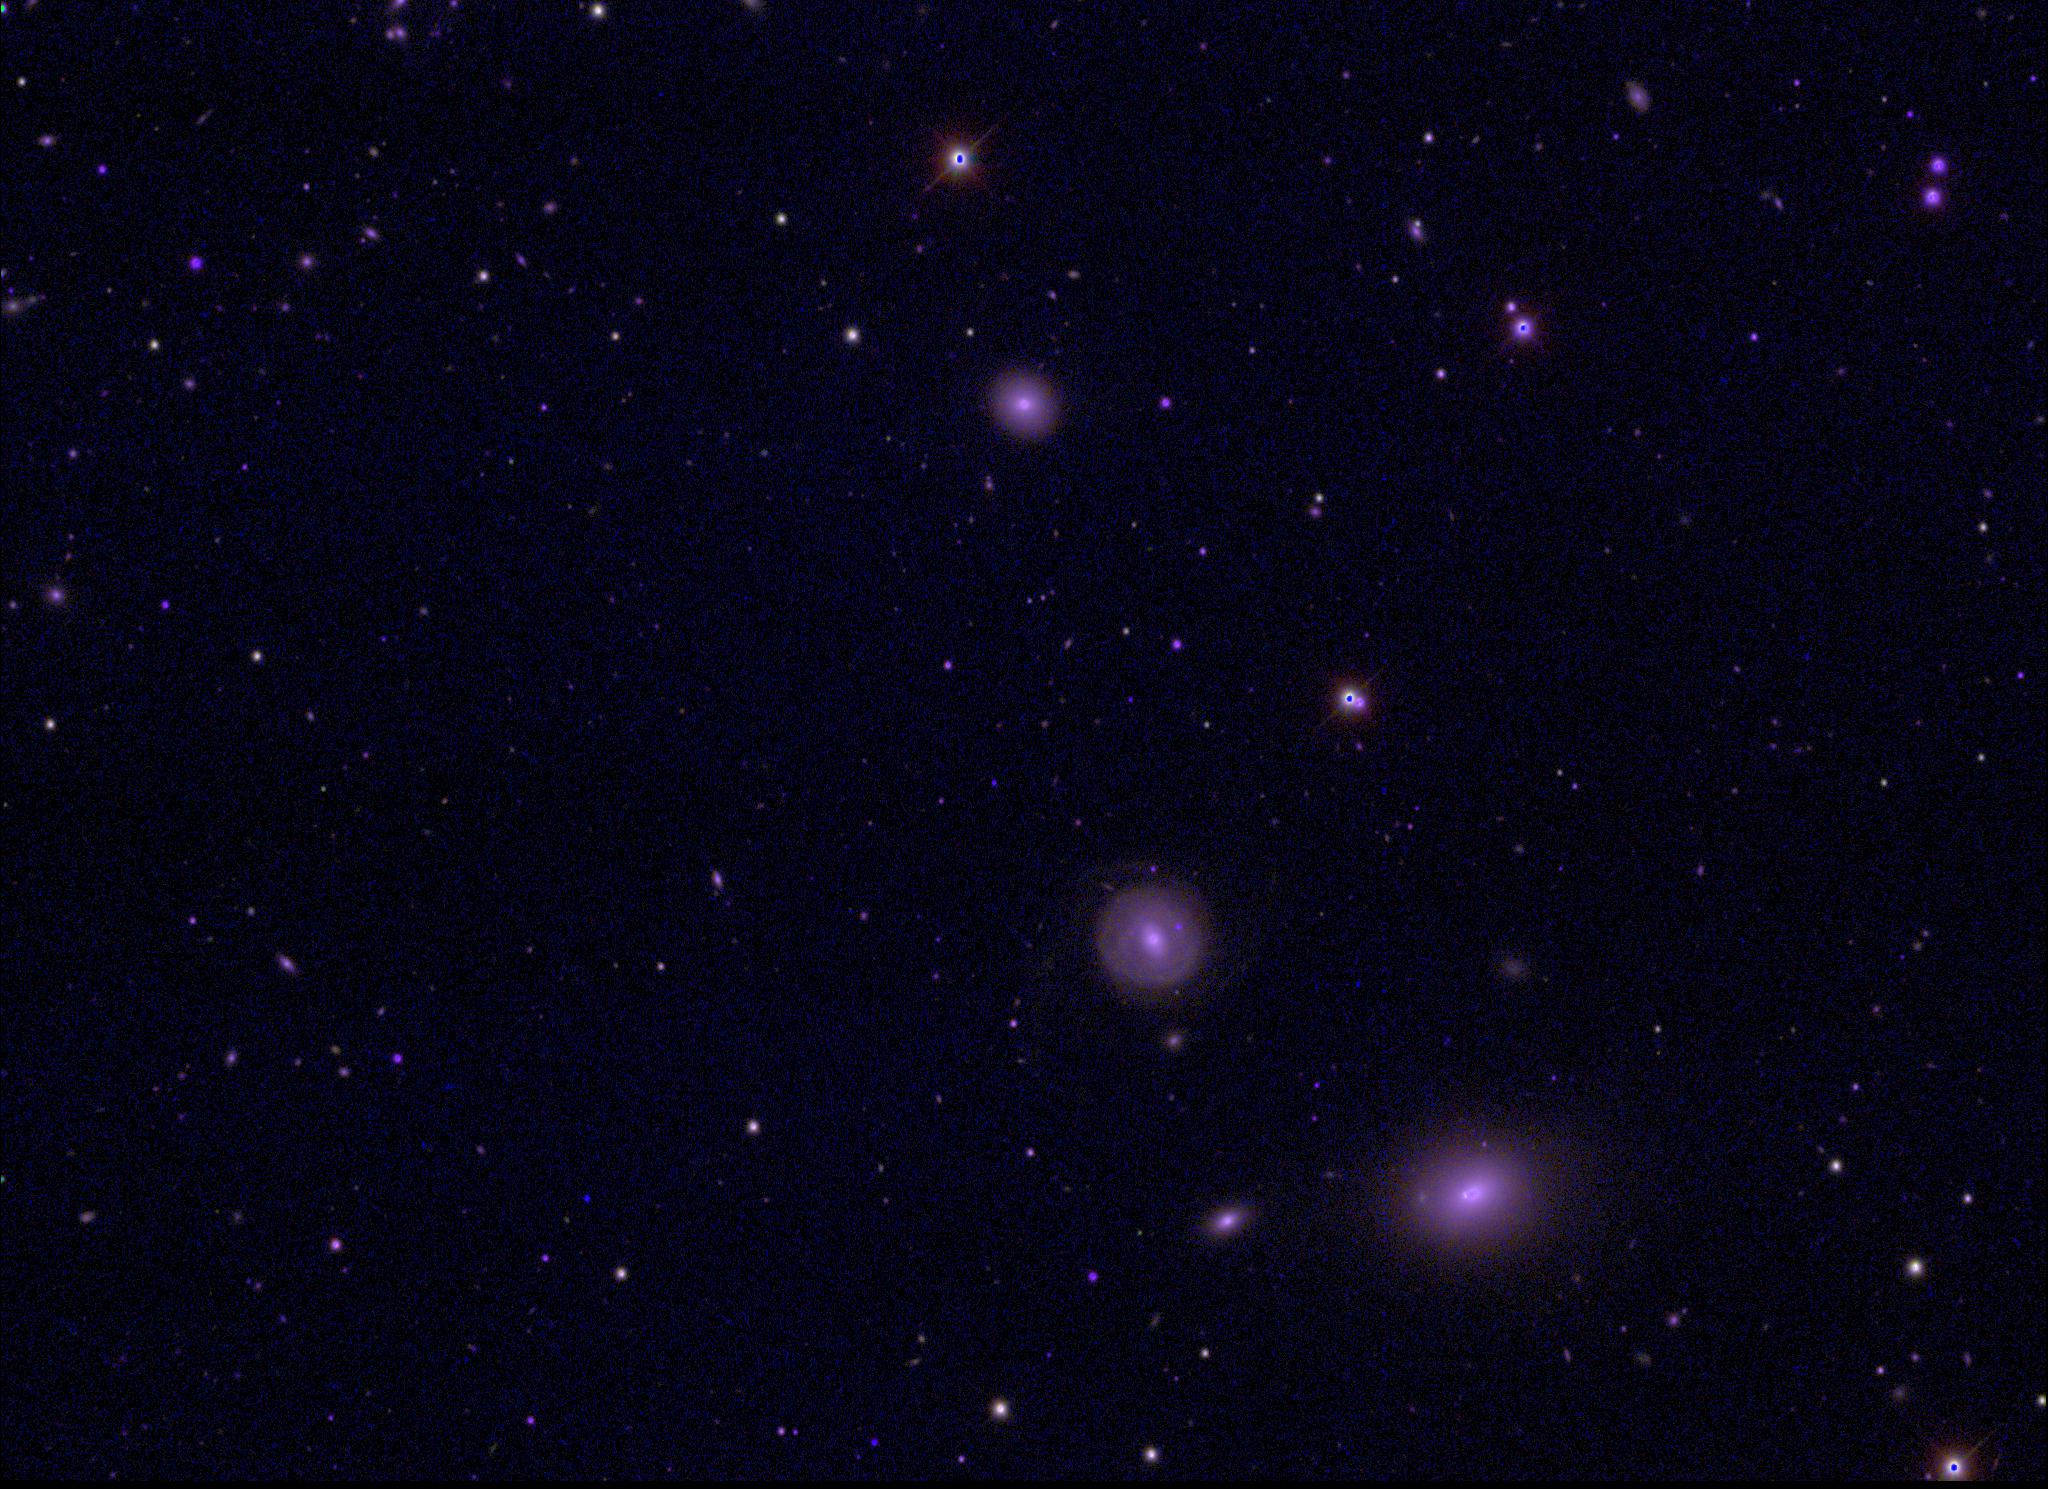L: (580, 1192, 595, 1206), (1441, 1032, 1455, 1047)
